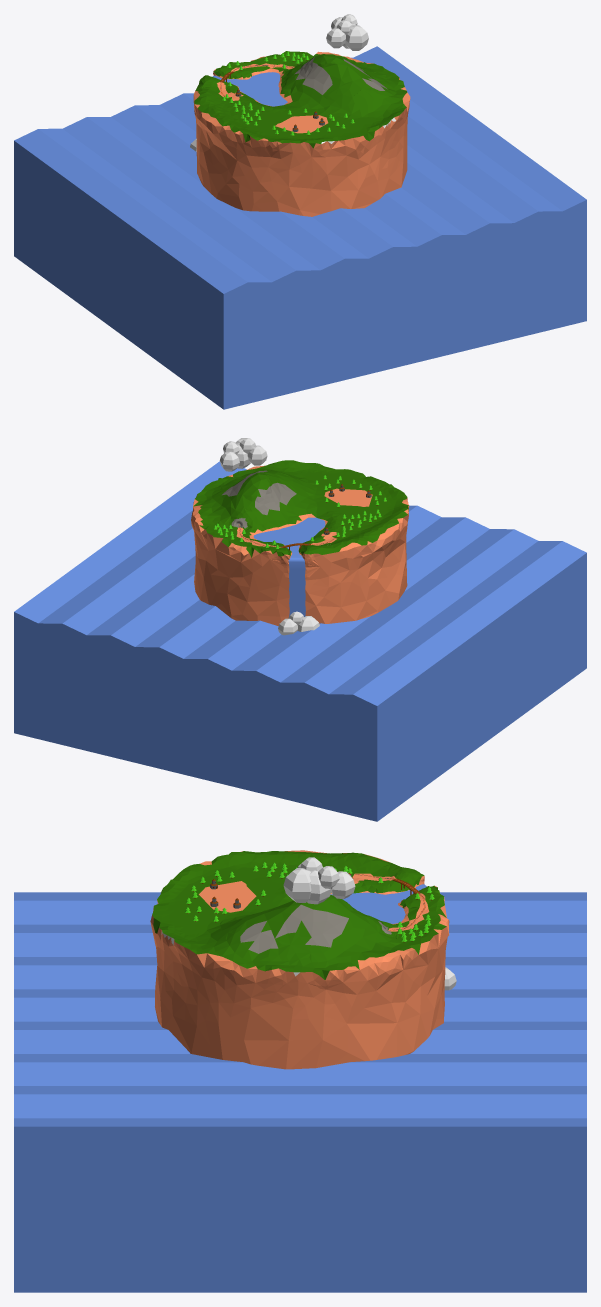
3 views of the same model, one above another, from view 1: azimuth 30°, elevation 25°; view 2: azimuth 150°, elevation 25°; view 3: azimuth 270°, elevation 25° (orthographic). The views are drawn at different scales.
Parts seen in each view (by area): view 1: Plane, Cylinder, Plane.001, Sphere.001; view 2: Plane, Cylinder, Plane.001, Plane.002, Sphere.002, Sphere, Sphere.001; view 3: Plane, Cylinder, Plane.001, Sphere.002, Sphere.001.
Boxes of the visible parts, <box> form: Plane: <box>14,46,586,409</box>; Cylinder: <box>193,51,410,216</box>; Plane.001: <box>224,72,287,106</box>; Sphere.001: <box>326,20,368,50</box>; Plane: <box>14,461,586,821</box>; Cylinder: <box>191,460,409,625</box>; Plane.001: <box>253,517,325,552</box>; Plane.002: <box>288,551,305,616</box>; Sphere.002: <box>219,441,250,471</box>; Sphere: <box>278,611,319,635</box>; Sphere.001: <box>235,438,267,465</box>; Plane: <box>14,892,586,1292</box>; Cylinder: <box>150,850,449,1069</box>; Plane.001: <box>330,890,413,923</box>; Sphere.002: <box>307,866,355,904</box>; Sphere.001: <box>283,857,322,902</box>.
Bounding box in the file's own units: 2 × 1.36 × 2.
4 materials, 3 textured.
